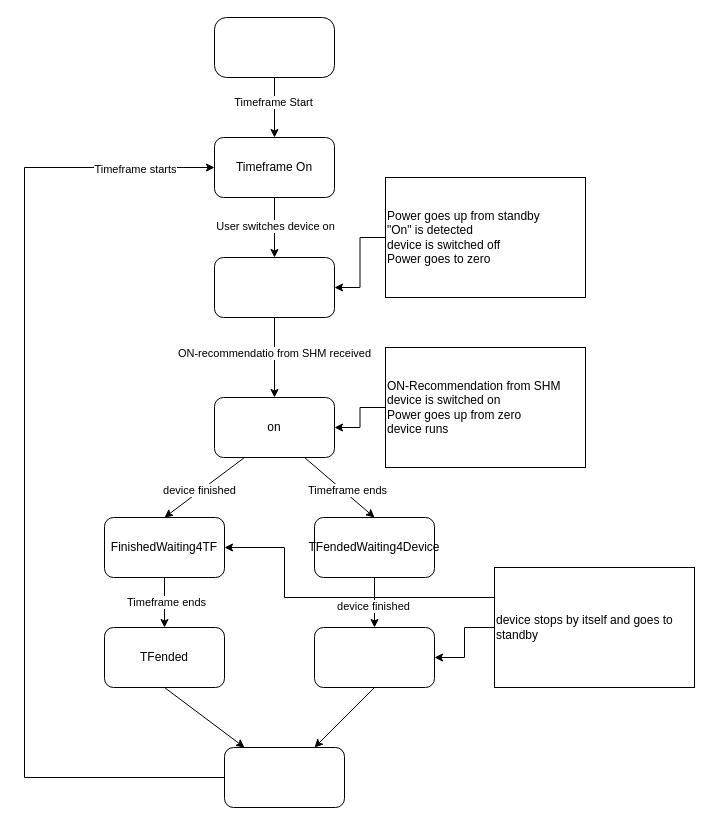
The diagram is 712 pixels wide and 825 high, and some of its shapes have lost their labels. The shapes that lost their labels are listed below. From the top down, each one's centre as x and y in pixels, then its label:
At point (274, 47): "off".
At point (274, 287): "waiting4On".
At point (374, 657): "DeviceFinished".
At point (284, 777): "DeviceInStandby".
